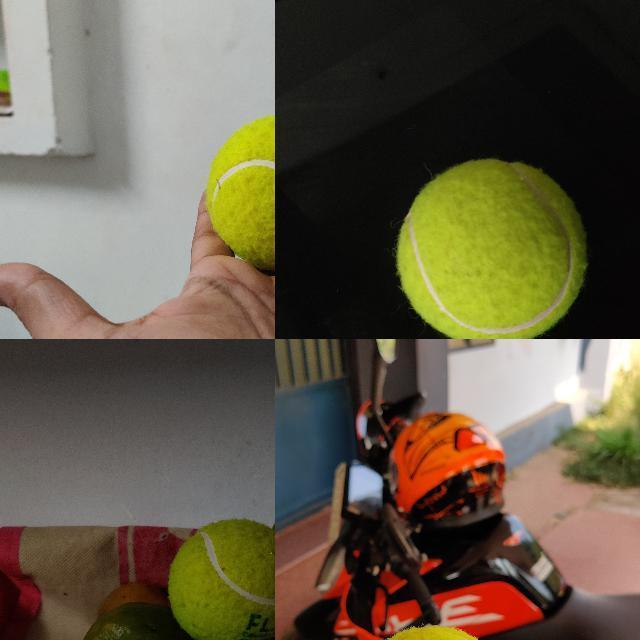tennis-ball: (396, 157, 589, 338), (167, 518, 274, 639), (206, 114, 274, 273)
